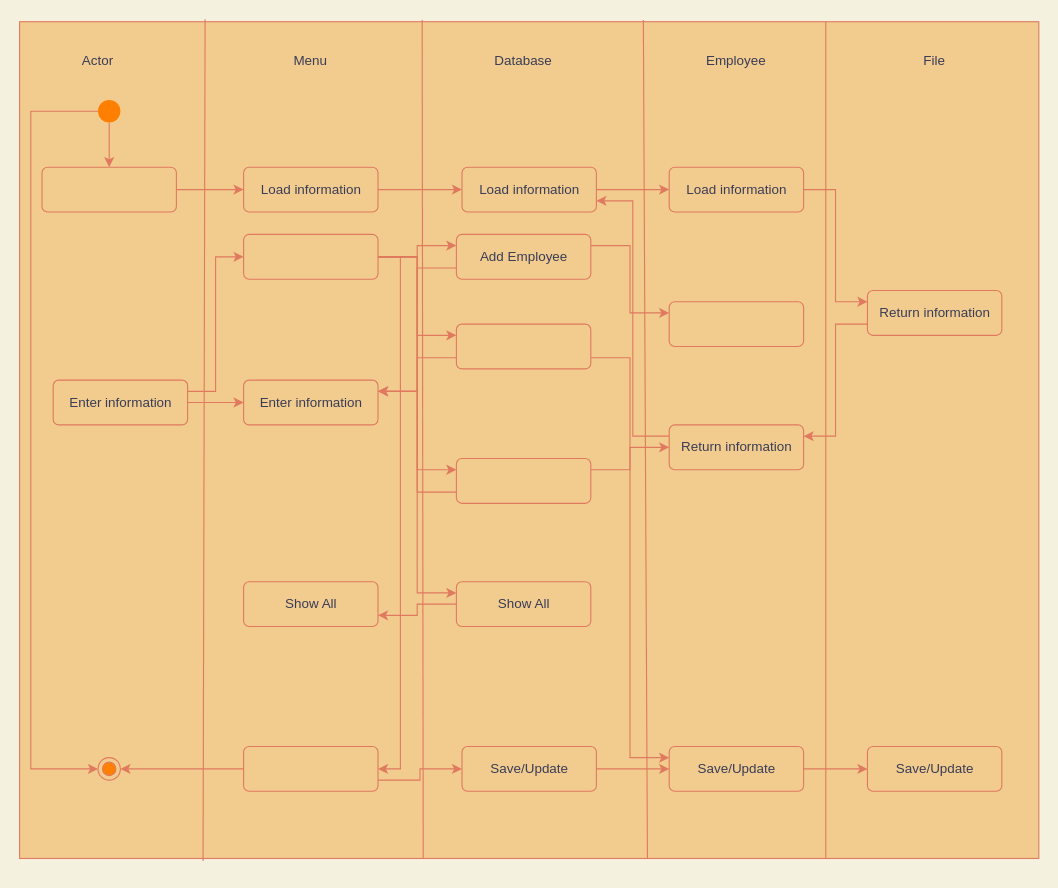
The diagram is 1058 pixels wide and 888 high, and some of its shapes have lost their labels. The shapes that lost their labels are listed below. From the top down, each one's centre as x and y in pixels, then its label:
pixel 108 189: Connect to the file
pixel 310 256: Choose operation
pixel 736 324: New Employee
pixel 523 346: Remove Employee
pixel 523 480: Search
pixel 310 768: Save/Exit/Update
